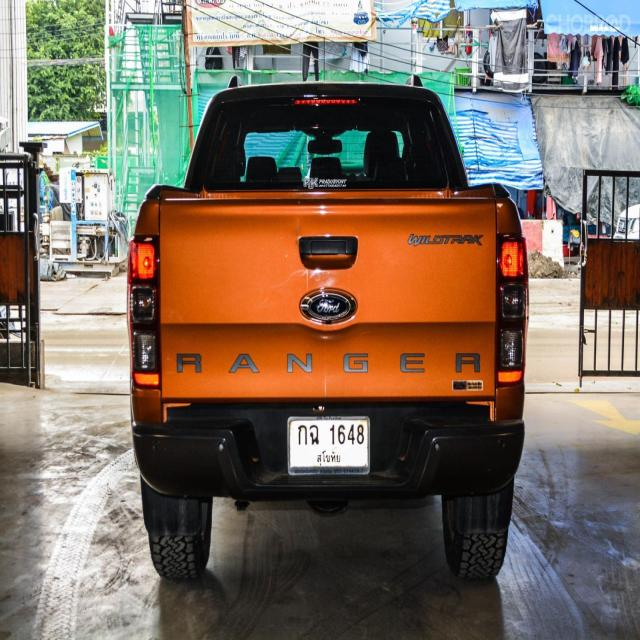license_plate: (284, 411, 373, 479)
